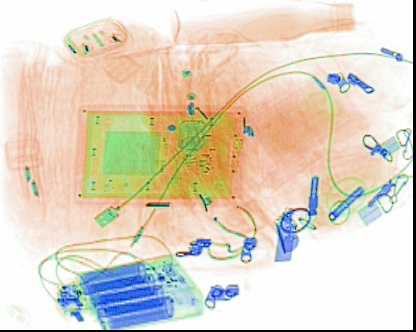powerbank: (76, 248, 206, 329)
